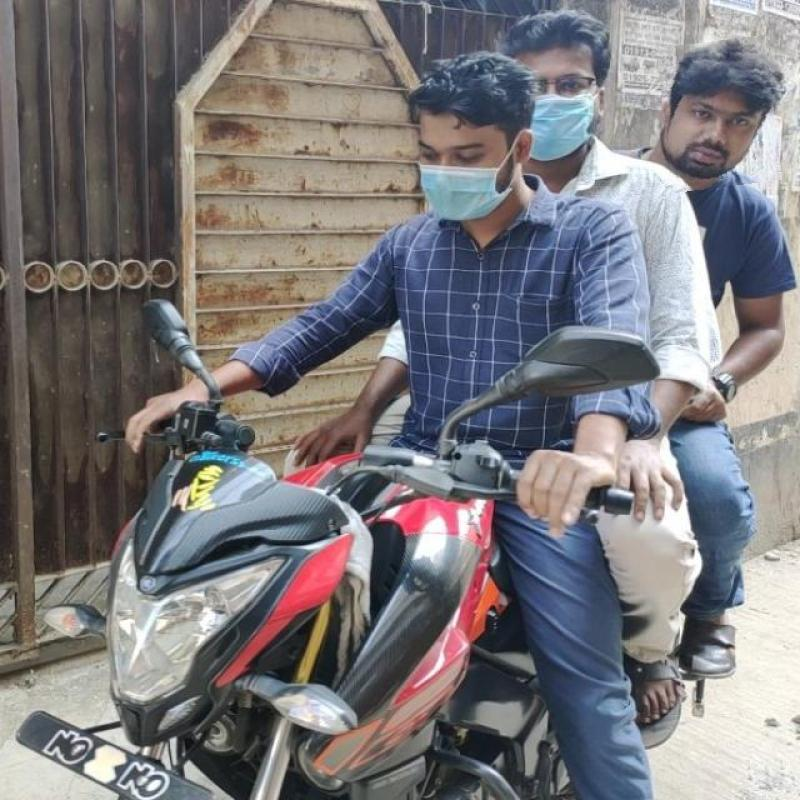nohelmet: (415, 54, 540, 205), (660, 38, 778, 190)
